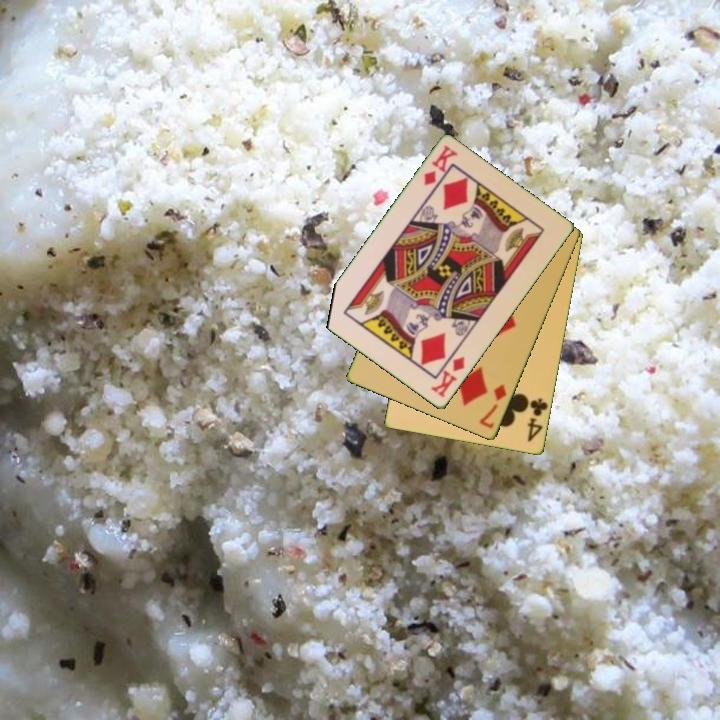4c: (524, 395, 551, 445)
7d: (476, 381, 510, 432)
Kd: (427, 353, 468, 401), (420, 142, 460, 189)
